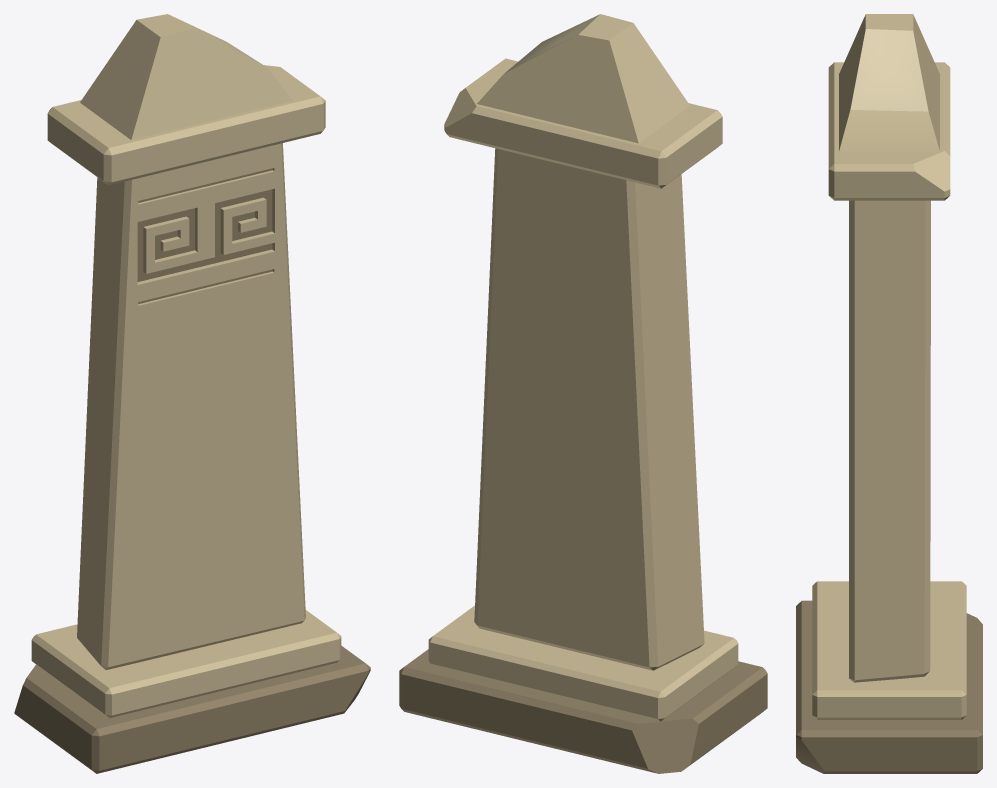
File: stele-0.glb
3 renders of one model, left to right at view 1: azimuth 30°, elevation 25°; view 2: azimuth 150°, elevation 25°; view 3: azimuth 270°, elevation 25°, orthographic.
Visible parts, largest first — view 1: stele-0; view 2: stele-0; view 3: stele-0.
Boxes of the visible parts, left/top/right/bottom form: stele-0: left=14, top=14, right=370, bottom=773; stele-0: left=399, top=14, right=767, bottom=773; stele-0: left=796, top=14, right=982, bottom=773.
Bounding box in the file's own units: 0.778 × 1.84 × 0.4587.
